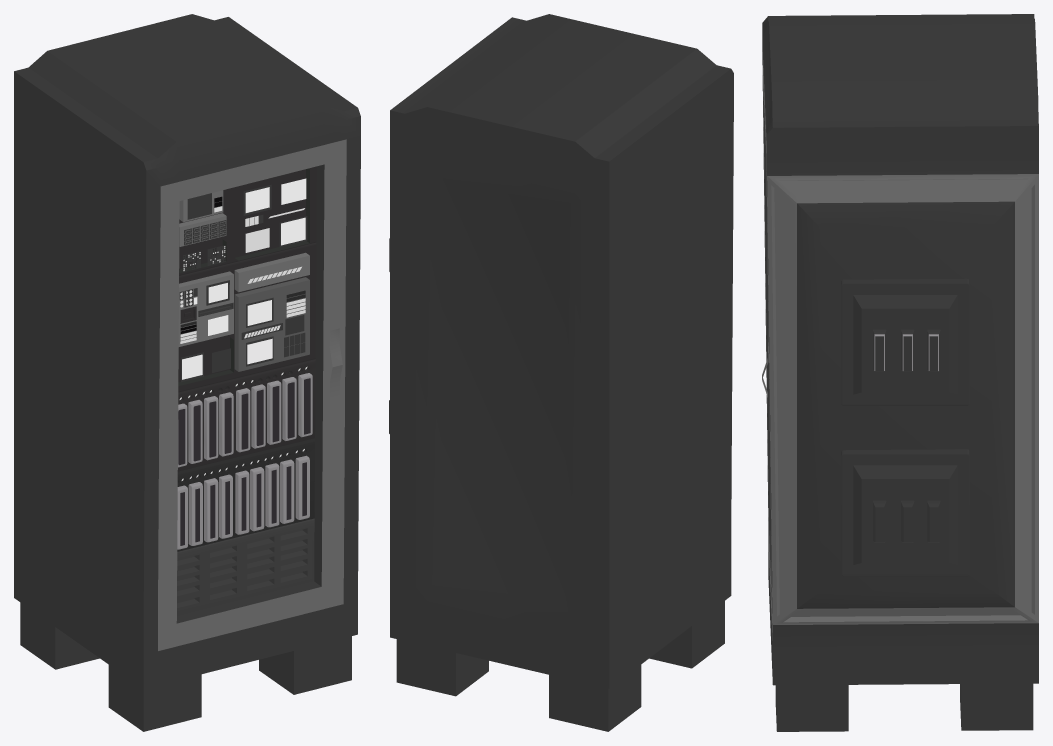
The model's file is server-transformed.glb.
3 renders of one model, left to right at view 1: azimuth 30°, elevation 25°; view 2: azimuth 150°, elevation 25°; view 3: azimuth 270°, elevation 25°, orthographic. The views are drawn at different scales.
Parts seen in each view (by area): view 1: Server 2 shell; view 2: Server 2 shell; view 3: Server 2 shell.
Part boxes in pixels (x1=…): Server 2 shell: x1=14, y1=14, x2=360, y2=731; Server 2 shell: x1=389, y1=14, x2=733, y2=731; Server 2 shell: x1=762, y1=14, x2=1038, y2=731.
Size of the model in its own units: 1.88 by 3.96 by 1.61.
Materials: 14 (14 with a texture image).
